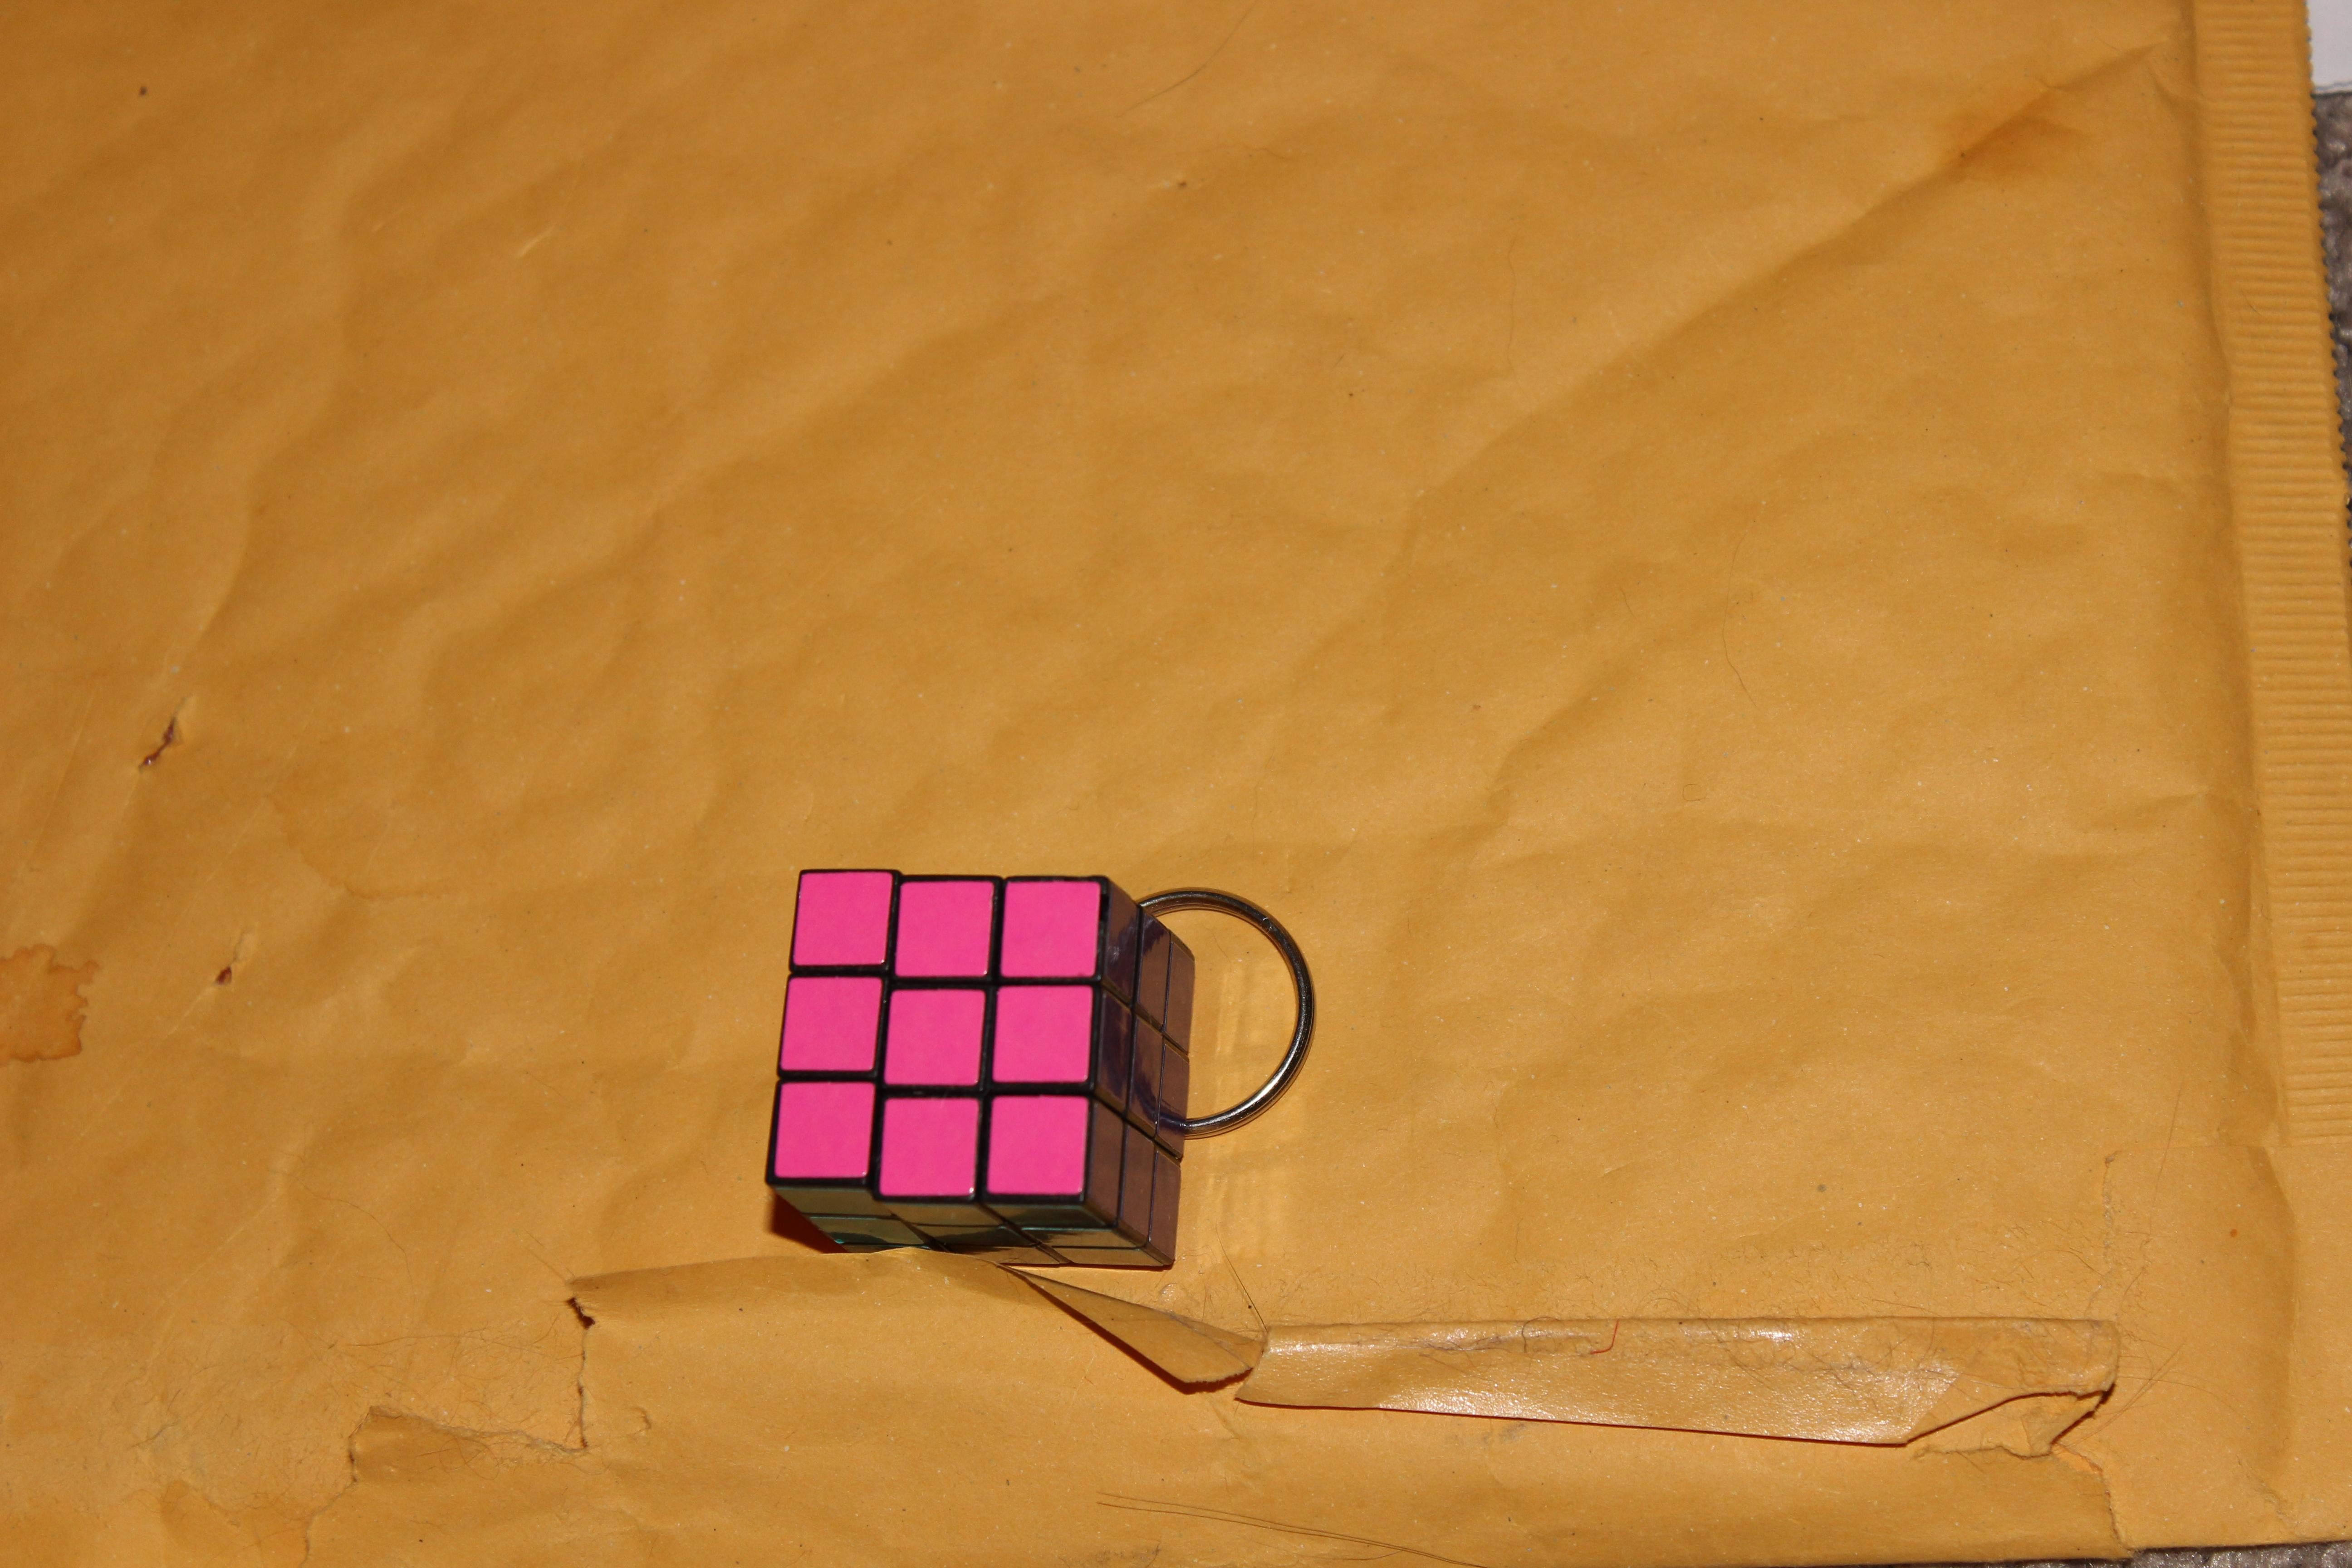rubiksCube: (719, 821, 1216, 1318)
